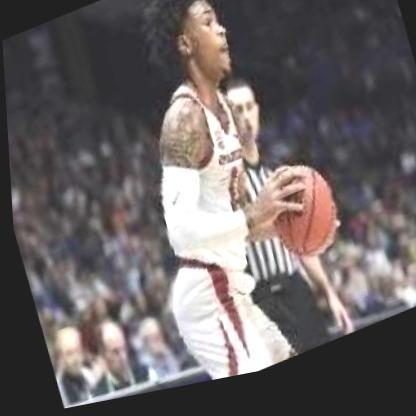basketball: (249, 161, 350, 285)
